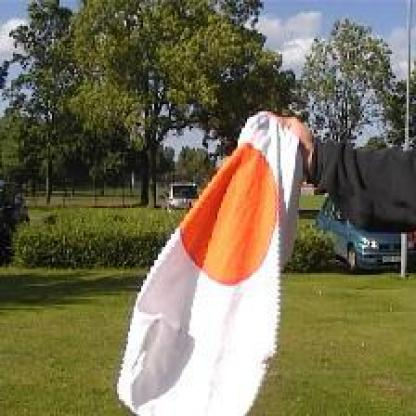other: (176, 145, 290, 286)
